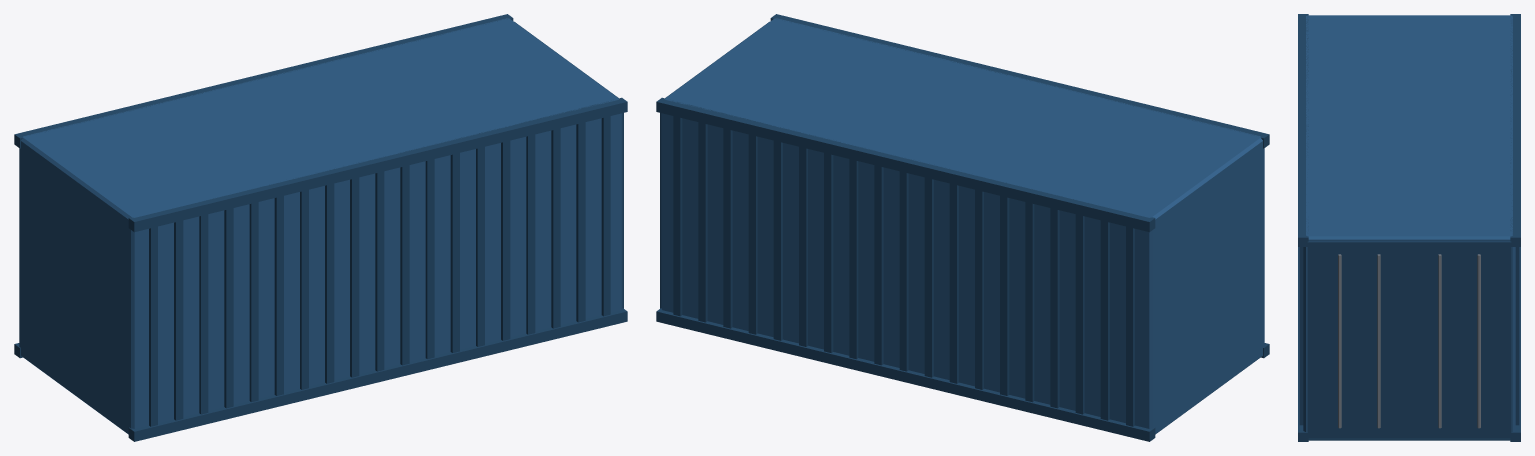
Rendered from shipping_container_blue.glb.
The picture shows the model from 3 angles, left to right: view 1: azimuth 30°, elevation 25°; view 2: azimuth 150°, elevation 25°; view 3: azimuth 270°, elevation 25°; orthographic projection. The views are drawn at different scales.
Visible parts, largest first — view 1: shipping_container_blue; view 2: shipping_container_blue; view 3: shipping_container_blue.
Boxes of the visible parts, x1,y1,x2,y2 form: shipping_container_blue: [14, 14, 627, 441]; shipping_container_blue: [656, 14, 1269, 441]; shipping_container_blue: [1298, 14, 1520, 441].
Size of the model in its own units: 6.14 by 2.59 by 2.56.
